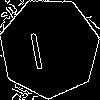I: (24, 23, 46, 70)
